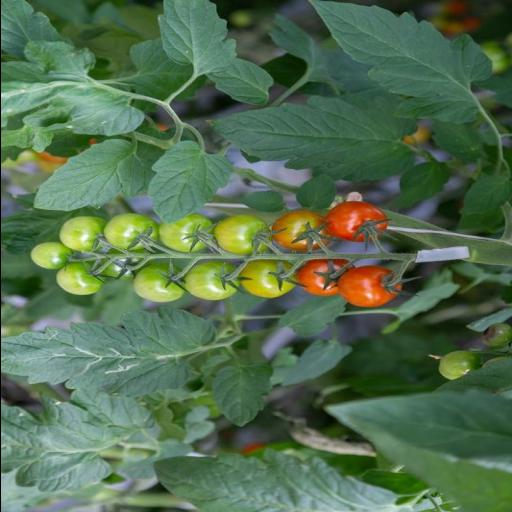Healthy: (306, 0, 492, 125), (206, 91, 420, 185), (31, 138, 155, 212), (145, 140, 233, 225), (156, 0, 238, 77), (208, 360, 275, 430), (202, 58, 274, 106)
Leaf Miner: (0, 306, 217, 398)
